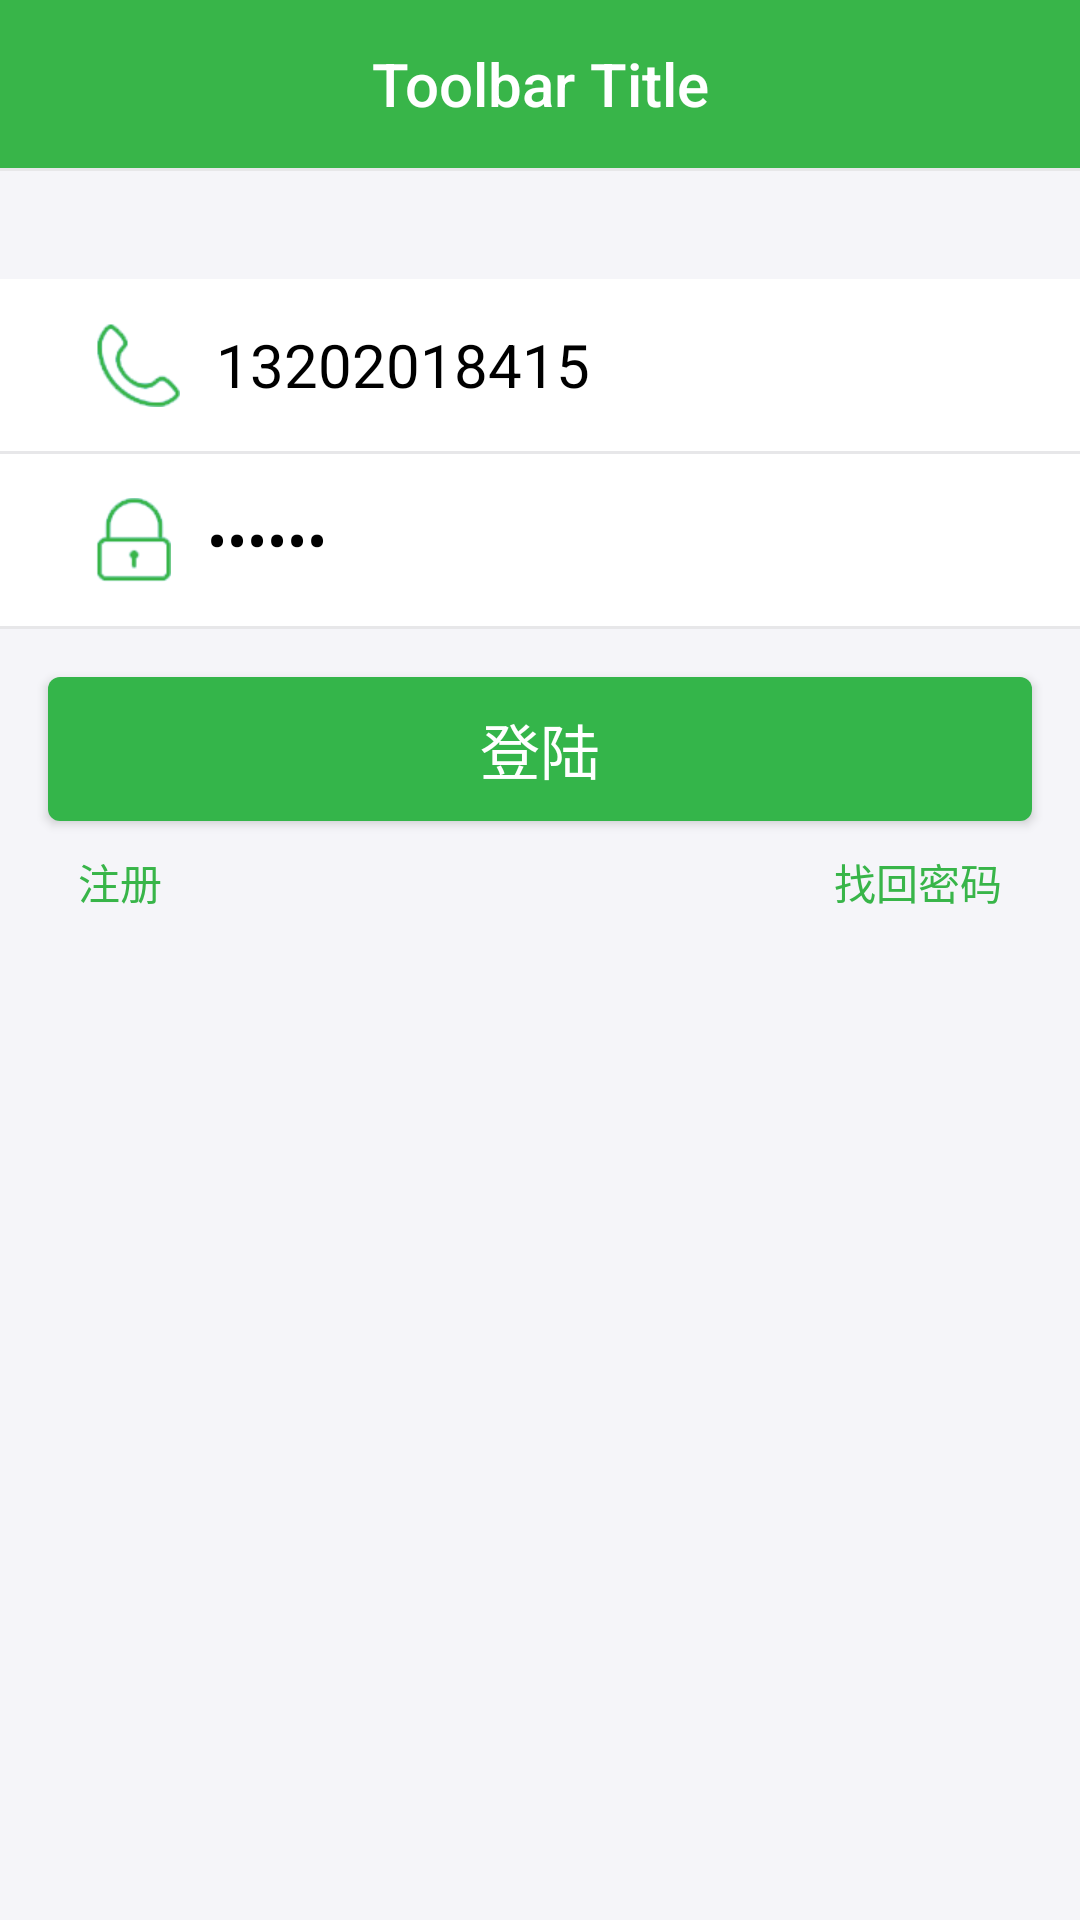

Named icons in this screenshot (1080x1920) and their bounding boxes, box(x1, y1, x2, y2):
login password: box(97, 498, 171, 581)
login phone: box(97, 324, 180, 407)
